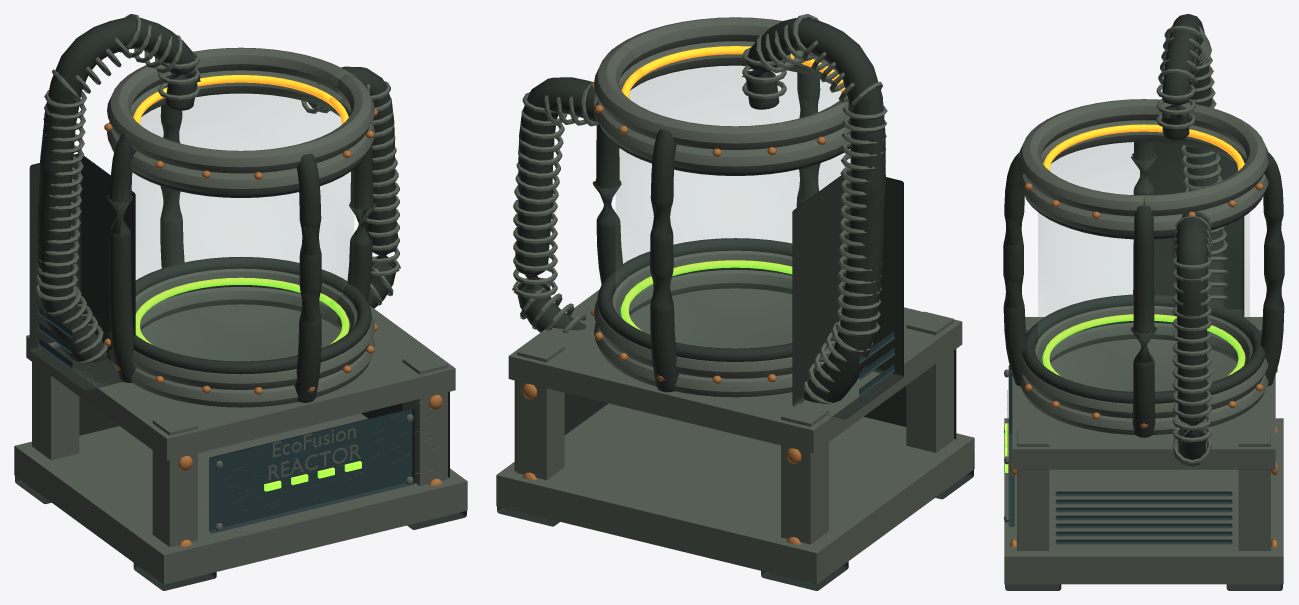
The model's file is ecofusion-reactor-v1.glb.
3 views of the same model, side by side, from view 1: azimuth 30°, elevation 25°; view 2: azimuth 150°, elevation 25°; view 3: azimuth 270°, elevation 25° (orthographic). The views are drawn at different scales.
Parts seen in each view (by area): view 1: reactor_WornEdges, reactor_ReactorIron, reactor_ChamberGlass, reactor_Graphite, reactor_GreenEnergy, reactor_OrangeEnergy, reactor_Copper, Text; view 2: reactor_WornEdges, reactor_ReactorIron, reactor_ChamberGlass, reactor_GreenEnergy, reactor_OrangeEnergy, reactor_Copper, reactor_Graphite; view 3: reactor_WornEdges, reactor_ReactorIron, reactor_ChamberGlass, reactor_Graphite, reactor_GreenEnergy, reactor_OrangeEnergy, reactor_Copper.
Part boxes in pixels (box(x1,y1,x2,y2)): reactor_WornEdges: box(14, 14, 467, 584); reactor_ReactorIron: box(15, 17, 466, 590); reactor_ChamberGlass: box(132, 92, 353, 360); reactor_Graphite: box(37, 307, 414, 533); reactor_GreenEnergy: box(135, 277, 361, 491); reactor_OrangeEnergy: box(133, 75, 348, 124); reactor_Copper: box(104, 104, 442, 546); Text: box(268, 428, 360, 480); reactor_WornEdges: box(496, 14, 974, 584); reactor_ReactorIron: box(497, 18, 973, 590); reactor_ChamberGlass: box(616, 64, 849, 347); reactor_GreenEnergy: box(620, 260, 792, 331); reactor_OrangeEnergy: box(621, 46, 845, 98); reactor_Copper: box(522, 82, 825, 544); reactor_Graphite: box(859, 331, 895, 396); reactor_WornEdges: box(1004, 26, 1283, 584); reactor_ReactorIron: box(1003, 14, 1284, 590); reactor_ChamberGlass: box(1038, 140, 1249, 390); reactor_Graphite: box(1008, 365, 1232, 544); reactor_GreenEnergy: box(1005, 314, 1245, 472); reactor_OrangeEnergy: box(1043, 124, 1244, 170); reactor_Copper: box(1010, 183, 1277, 547).
Bounding box in the file's own units: 2.37 × 3.15 × 1.75.
